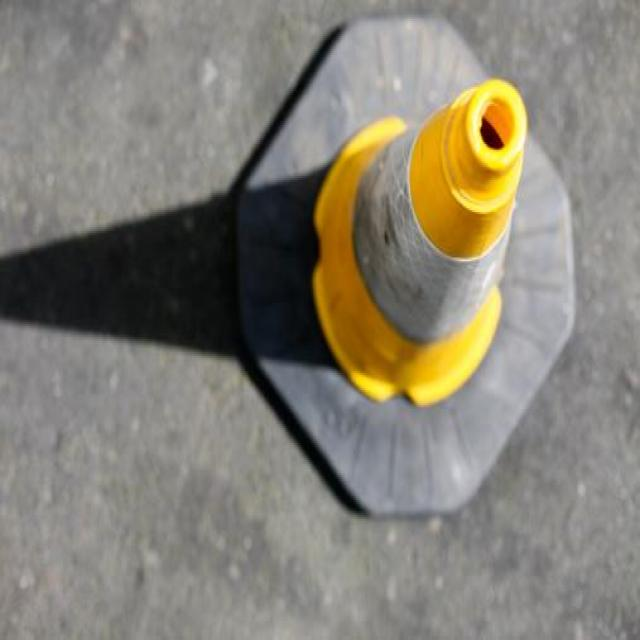Cone: (220, 15, 584, 515)
